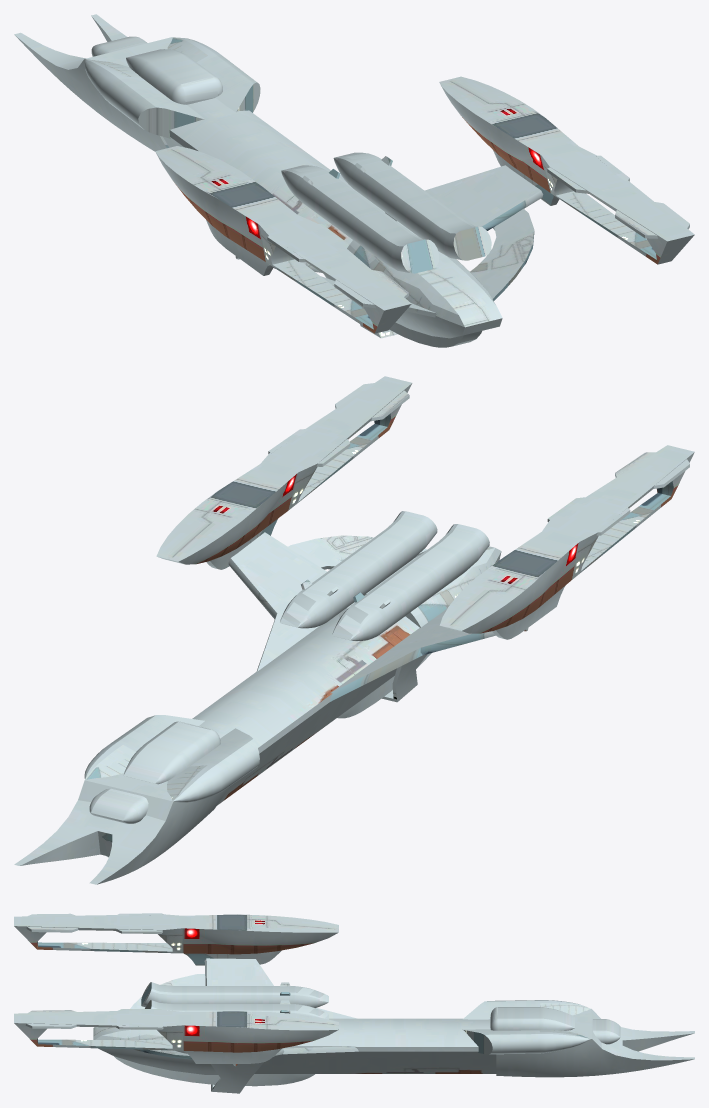
The model's file is Dom_Karemman.fbx.
3 renders of one model, top to bottom at view 1: azimuth 30°, elevation 25°; view 2: azimuth 150°, elevation 25°; view 3: azimuth 270°, elevation 25°, orthographic. The views are drawn at different scales.
Visible parts, largest first — view 1: Dom_Karemman; view 2: Dom_Karemman; view 3: Dom_Karemman.
Boxes of the visible parts, <box> form: Dom_Karemman: <box>14,14,694,347</box>; Dom_Karemman: <box>14,376,694,884</box>; Dom_Karemman: <box>14,913,694,1093</box>.
Bounding box in the file's own units: 118 × 56.52 × 297.
Materials: 1 (1 with a texture image).
